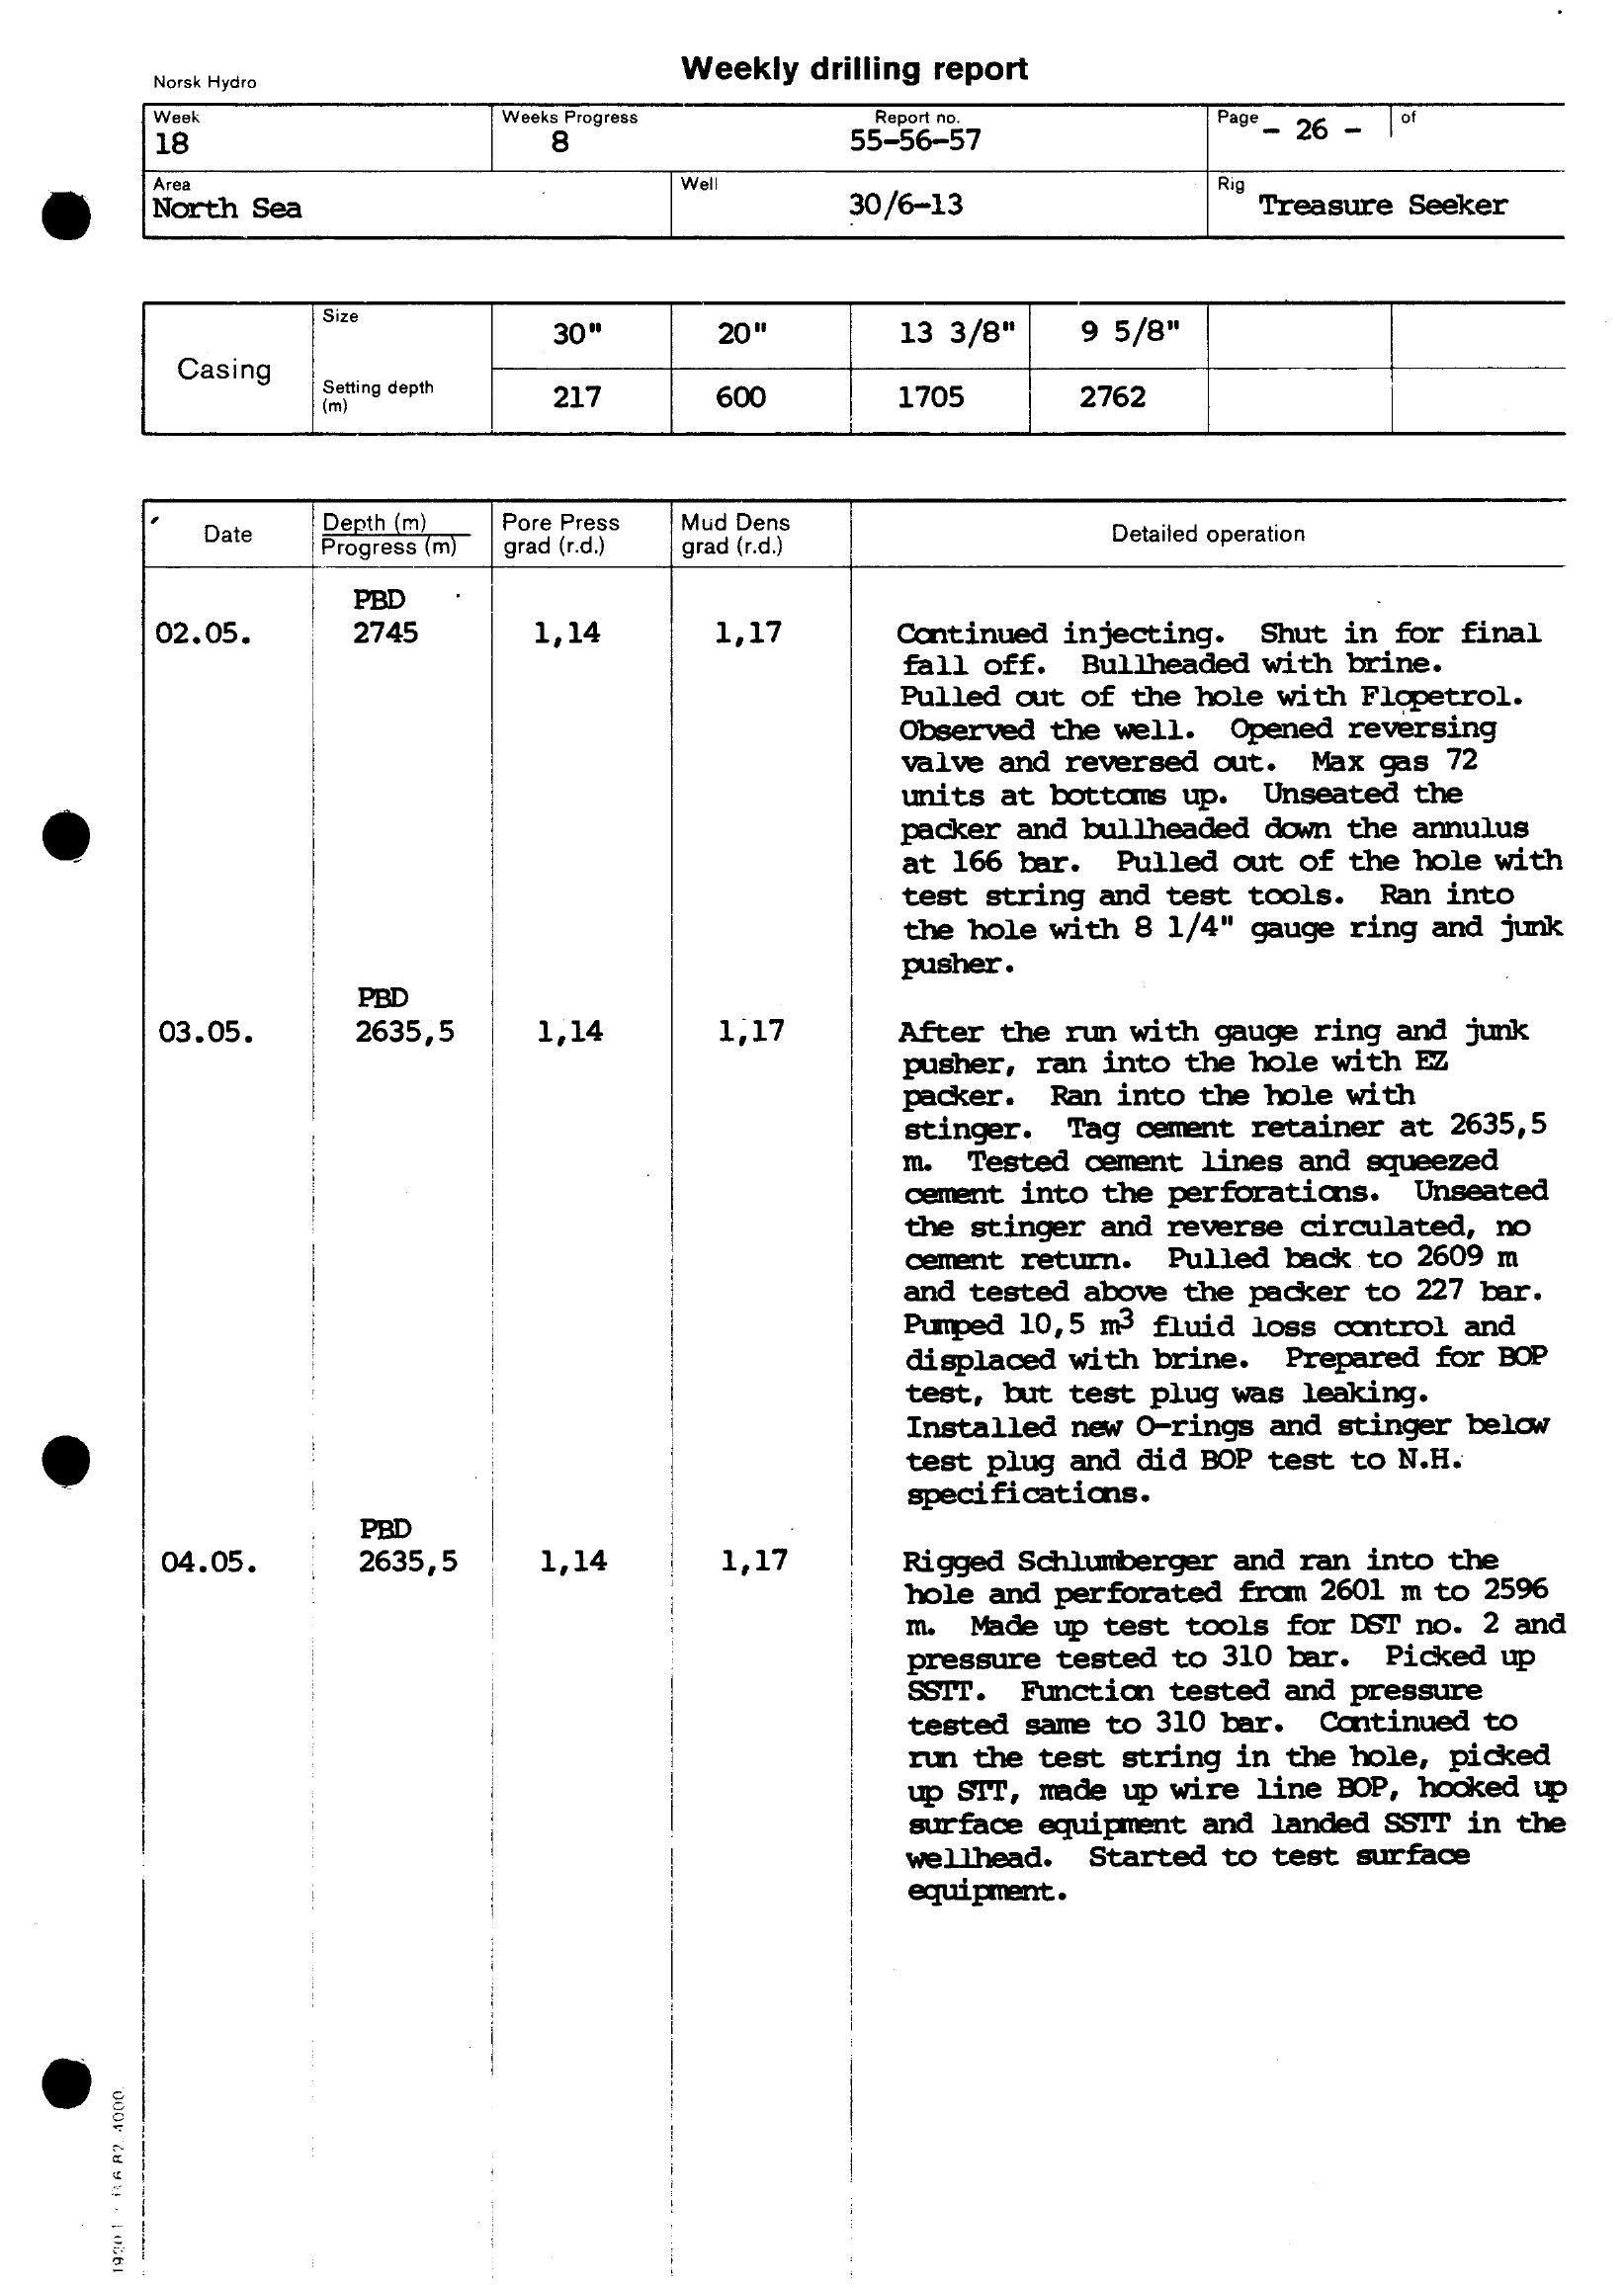graph: (134, 91, 1624, 1930)
text: (661, 35, 1048, 100)
